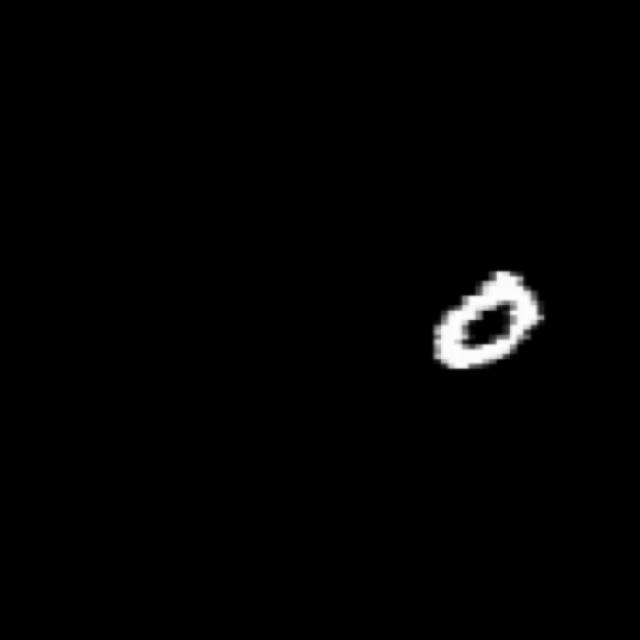zero -0-: (414, 257, 562, 382)
